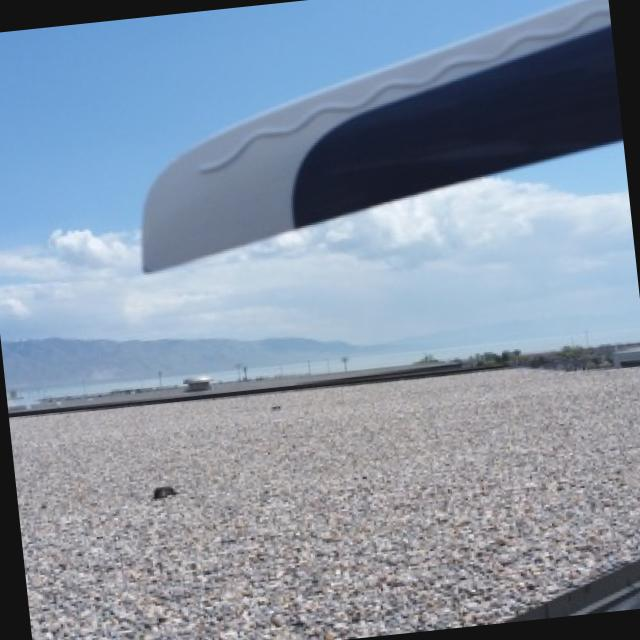healthy: (147, 0, 623, 265)
